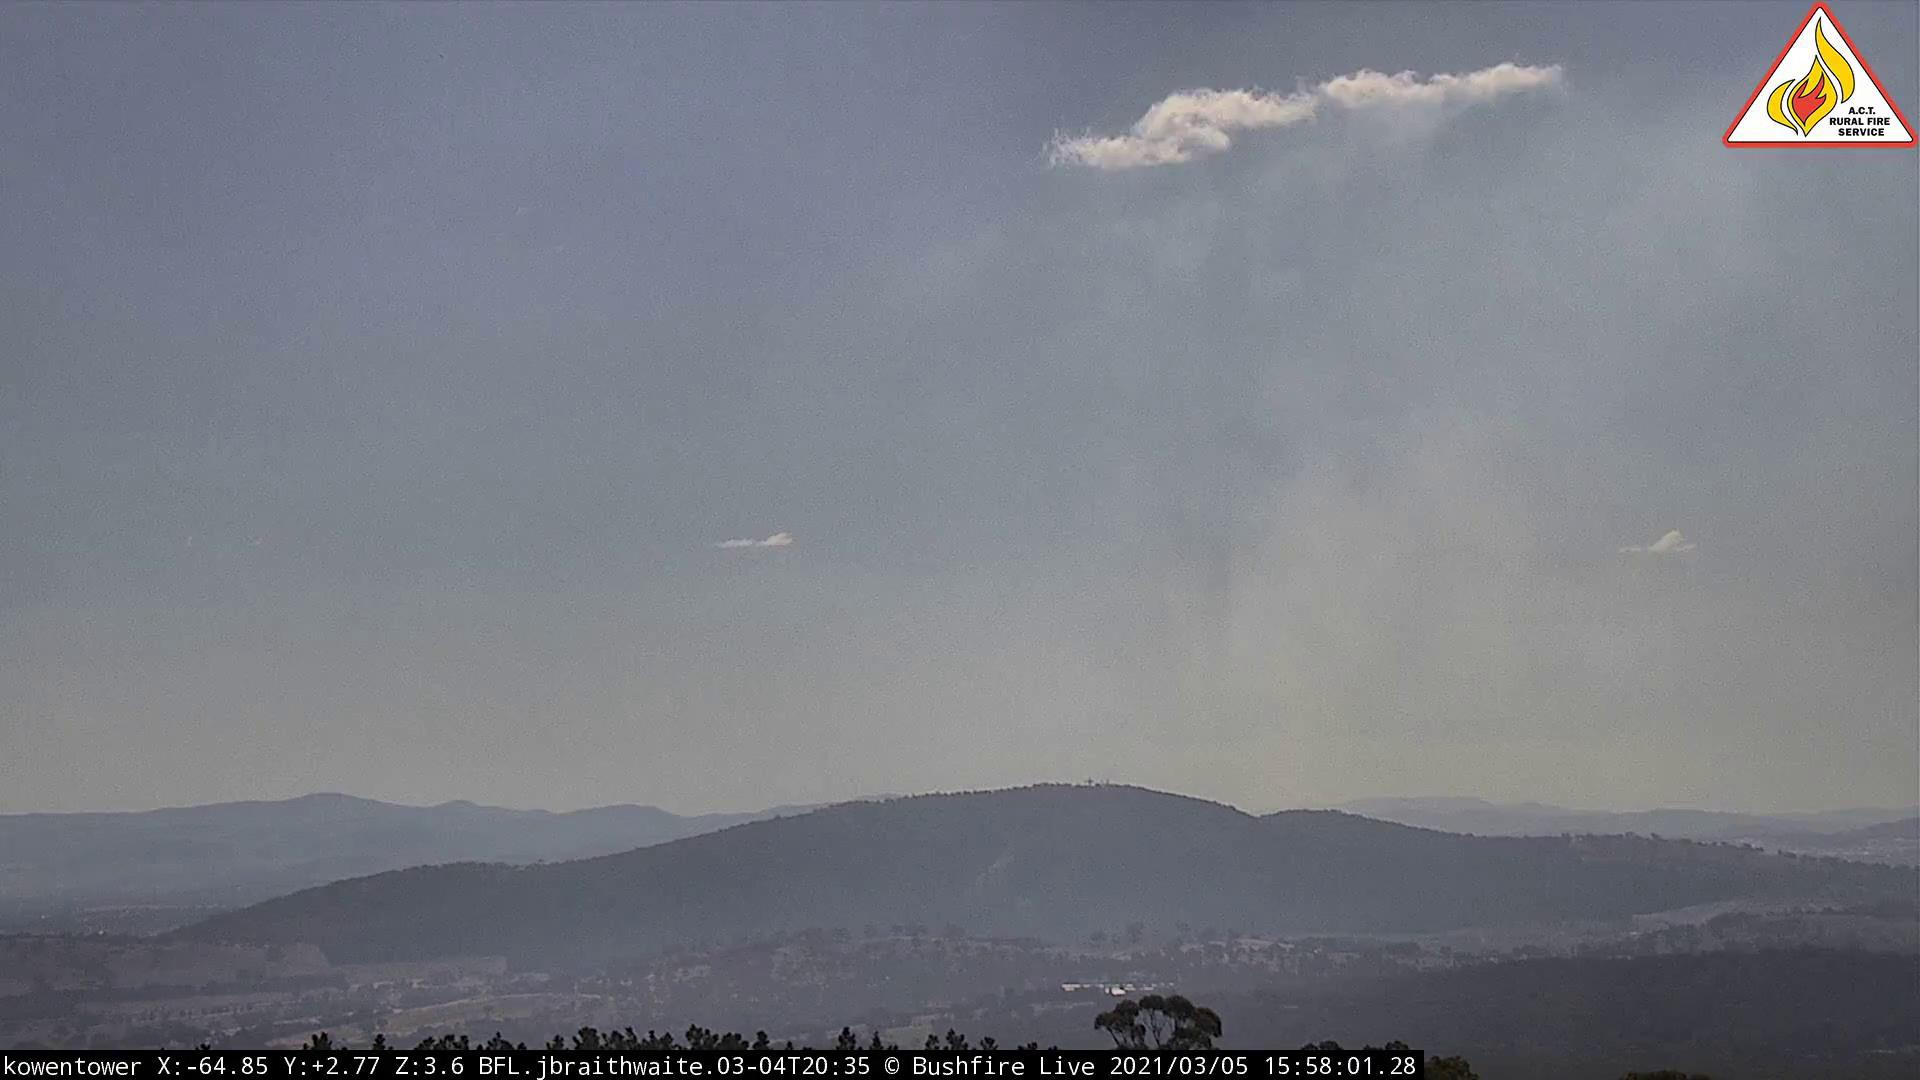Smoke: (899, 154, 1557, 822)
